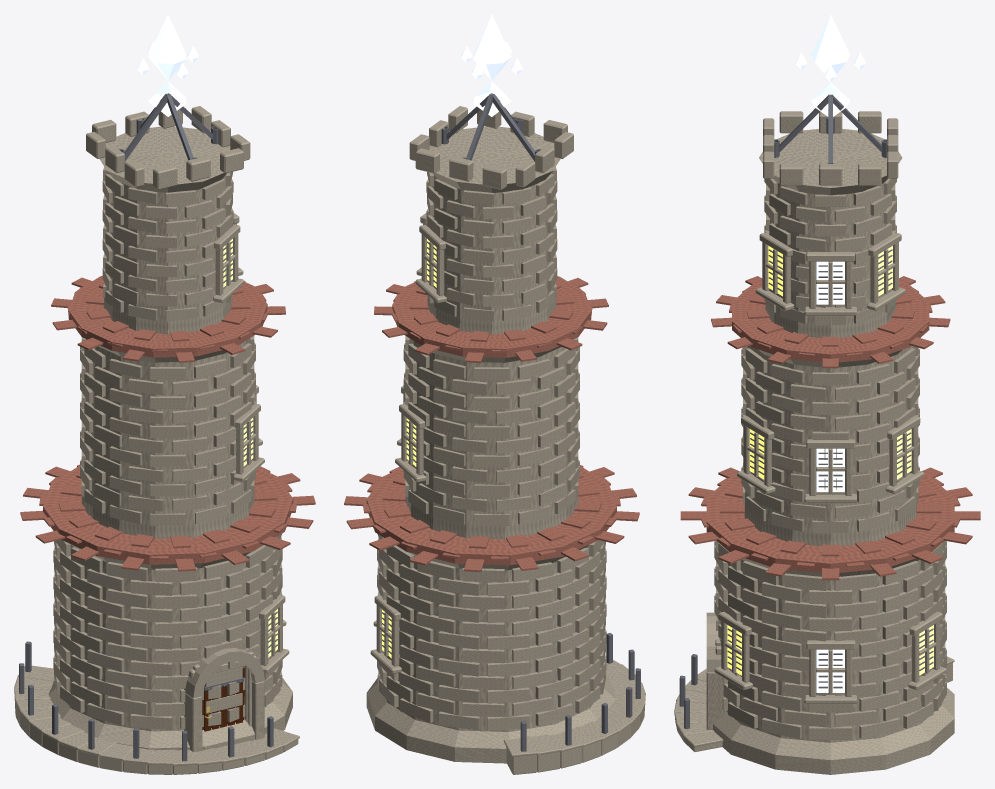
The model's file is fantasy-mmo-city-and-townsfolk-arcane-mage-tower-3270d276__32746.glb.
The picture shows the model from 3 angles, left to right: view 1: azimuth 30°, elevation 25°; view 2: azimuth 150°, elevation 25°; view 3: azimuth 270°, elevation 25°; orthographic projection.
Parts seen in each view (by area): view 1: arcane-mage-tower, crystal, door/timber; view 2: arcane-mage-tower, crystal; view 3: arcane-mage-tower, crystal.
Part boxes in pixels (<box>): arcane-mage-tower: <box>14,93,315,774</box>; crystal: <box>137,14,198,116</box>; door/timber: <box>202,667,244,731</box>; arcane-mage-tower: <box>344,93,645,774</box>; crystal: <box>461,14,522,116</box>; arcane-mage-tower: <box>674,94,980,774</box>; crystal: <box>795,14,865,116</box>.
Bounding box in the file's own units: 9.37 × 23.9 × 9.39.
Materials: 7 (3 with a texture image).
